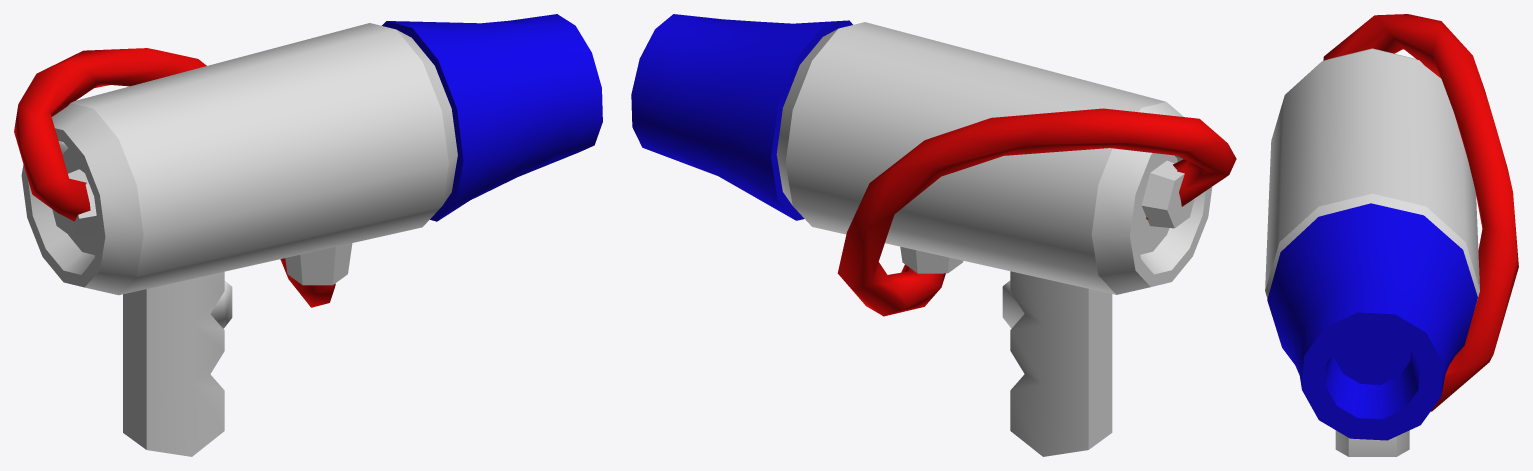
File: MS_TheShrinkerNotAGrower.fbx
3 views of the same model, side by side, from view 1: azimuth 30°, elevation 25°; view 2: azimuth 150°, elevation 25°; view 3: azimuth 270°, elevation 25° (orthographic).
Parts seen in each view (by area): view 1: Shrinker not a Grower; view 2: Shrinker not a Grower; view 3: Shrinker not a Grower.
Boxes of the visible parts, x1=… form: Shrinker not a Grower: x1=14, y1=14, x2=602, y2=456; Shrinker not a Grower: x1=631, y1=14, x2=1236, y2=456; Shrinker not a Grower: x1=1265, y1=14, x2=1518, y2=456.
Bounding box in the file's own units: 72.84 × 47.48 × 28.52.
